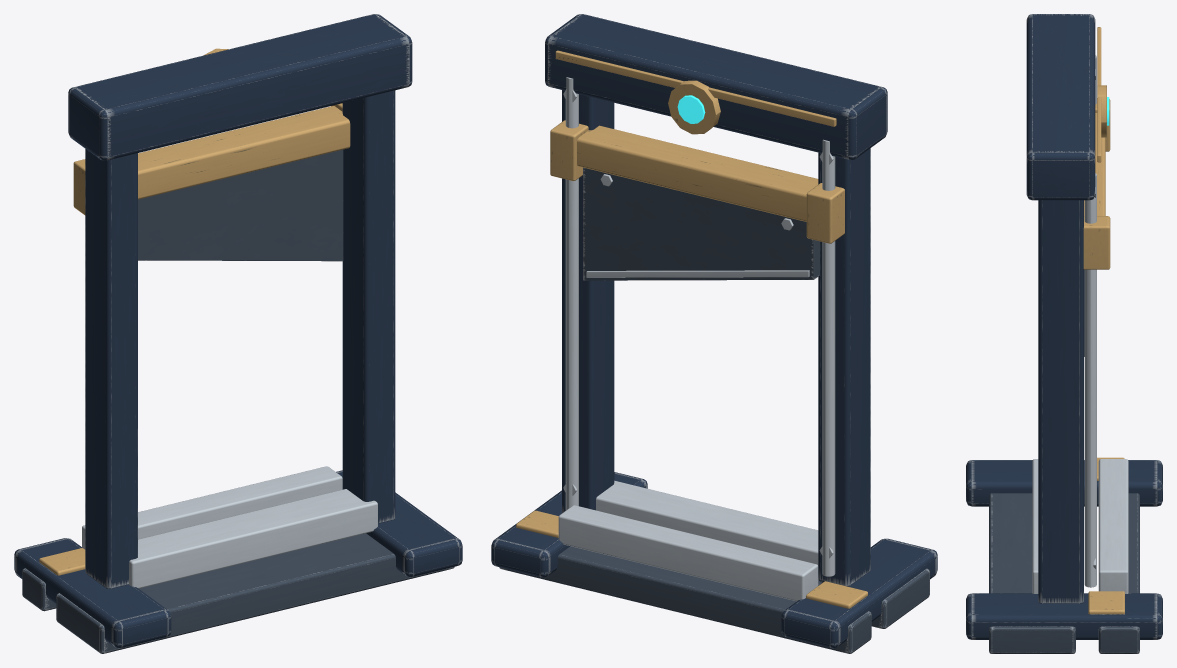
Rendered from guillotine.glb.
The picture shows the model from 3 angles, left to right: view 1: azimuth 30°, elevation 25°; view 2: azimuth 150°, elevation 25°; view 3: azimuth 270°, elevation 25°; orthographic projection. The views are drawn at different scales.
Visible parts, largest first — view 1: v2_guillotine__crown, v2_guillotine__column_neg1, v2_guillotine__column_1, v2_guillotine__falling_blade, v2_guillotine__ground_rear, v2_guillotine__anvil_rear, v2_guillotine__carriage, v2_guillotine__foot_neg1, v2_guillotine__anvil_front, v2_guillotine__foot_1, v2_guillotine__foot_trim_neg1, v2_guillotine__ground_front (+1 smaller); view 2: v2_guillotine__crown, v2_guillotine__falling_blade, v2_guillotine__column_neg1, v2_guillotine__column_1, v2_guillotine__anvil_front, v2_guillotine__carriage, v2_guillotine__ground_front, v2_guillotine__anvil_rear, v2_guillotine__foot_neg1, v2_guillotine__guide_neg1, v2_guillotine__guide_1, v2_guillotine__foot_1 (+8 smaller); view 3: v2_guillotine__column_1, v2_guillotine__crown, v2_guillotine__ground_rear, v2_guillotine__foot_1, v2_guillotine__guide_1, v2_guillotine__foot_neg1, v2_guillotine__anvil_front, v2_guillotine__ground_front, v2_guillotine__runner_1, v2_guillotine__anvil_rear, v2_guillotine__foot_trim_1, v2_guillotine__carriage (+2 smaller).
Boxes of the visible parts, x1,y1,x2,y2 form: v2_guillotine__crown: [68, 14, 412, 160]; v2_guillotine__column_neg1: [85, 149, 137, 588]; v2_guillotine__column_1: [342, 90, 395, 523]; v2_guillotine__falling_blade: [138, 149, 343, 261]; v2_guillotine__ground_rear: [56, 533, 454, 653]; v2_guillotine__anvil_rear: [129, 489, 377, 588]; v2_guillotine__carriage: [138, 106, 350, 199]; v2_guillotine__foot_neg1: [14, 538, 171, 647]; v2_guillotine__anvil_front: [82, 466, 342, 549]; v2_guillotine__foot_1: [336, 470, 462, 576]; v2_guillotine__foot_trim_neg1: [39, 548, 85, 575]; v2_guillotine__ground_front: [22, 568, 56, 611]; v2_guillotine__crown: [545, 14, 887, 159]; v2_guillotine__falling_blade: [583, 167, 819, 280]; v2_guillotine__column_neg1: [818, 148, 870, 586]; v2_guillotine__column_1: [562, 90, 614, 512]; v2_guillotine__anvil_front: [558, 505, 818, 601]; v2_guillotine__carriage: [577, 125, 818, 221]; v2_guillotine__ground_front: [499, 546, 871, 653]; v2_guillotine__anvil_rear: [596, 480, 818, 565]; v2_guillotine__foot_neg1: [781, 538, 937, 648]; v2_guillotine__guide_neg1: [822, 139, 835, 576]; v2_guillotine__guide_1: [565, 77, 578, 510]; v2_guillotine__foot_1: [491, 472, 647, 577]; v2_guillotine__column_1: [1038, 200, 1083, 603]; v2_guillotine__crown: [1026, 14, 1095, 200]; v2_guillotine__ground_rear: [989, 493, 1075, 653]; v2_guillotine__foot_1: [966, 593, 1162, 639]; v2_guillotine__guide_1: [1084, 173, 1096, 587]; v2_guillotine__foot_neg1: [966, 460, 1162, 506]; v2_guillotine__anvil_front: [1098, 459, 1128, 593]; v2_guillotine__ground_front: [1098, 493, 1139, 653]; v2_guillotine__runner_1: [1083, 216, 1110, 269]; v2_guillotine__anvil_rear: [1032, 459, 1038, 593]; v2_guillotine__foot_trim_1: [1088, 591, 1124, 614]; v2_guillotine__carriage: [1084, 113, 1105, 215].
Size of the model in its own units: 1.68 by 2.37 by 0.86.
2 materials, 2 textured.
